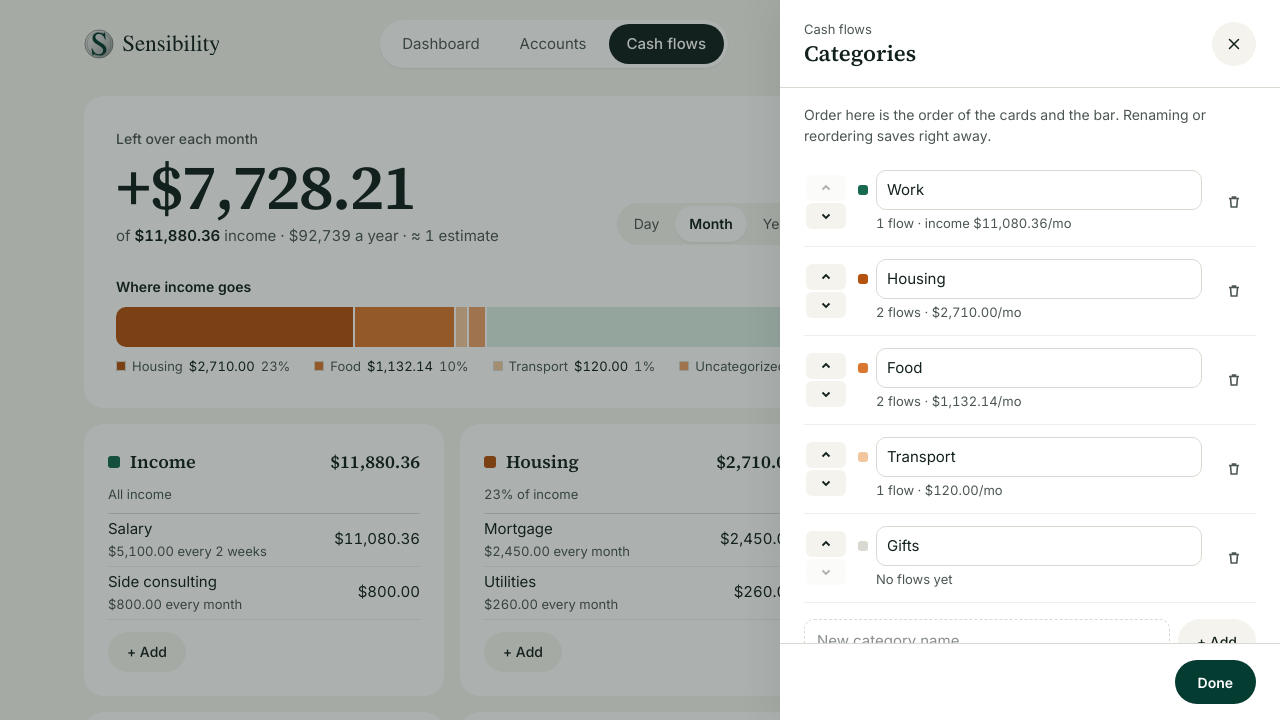
Test: the categories drawer › moves a category
Expected: the dialog "Categories" is shown, [780,0,1279,719]
What coordinates should you click on to do the following:
click the button named "Move Food up"
I would click on:
 (826, 358)
Its box is [804,336,848,380].
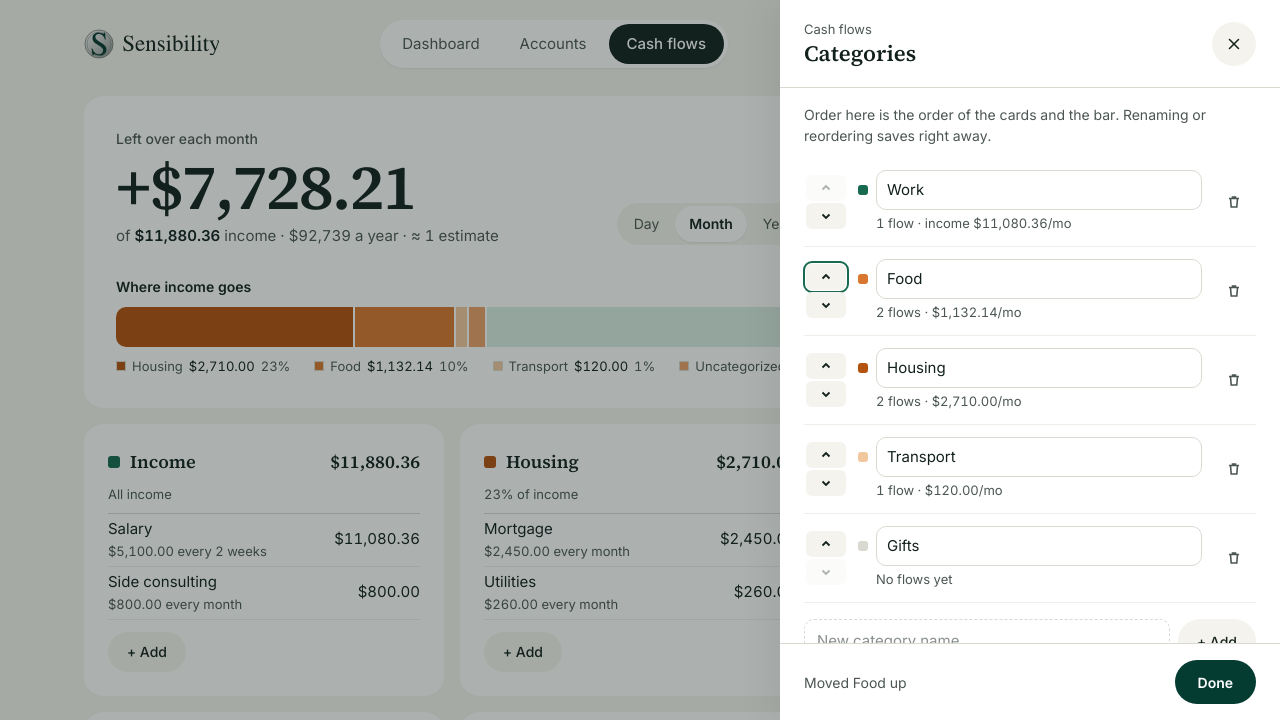
Expected: the message reads "Moved Food up", [804,674,906,690]
